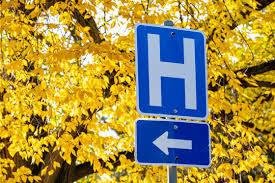Hospital: (135, 18, 214, 168)
